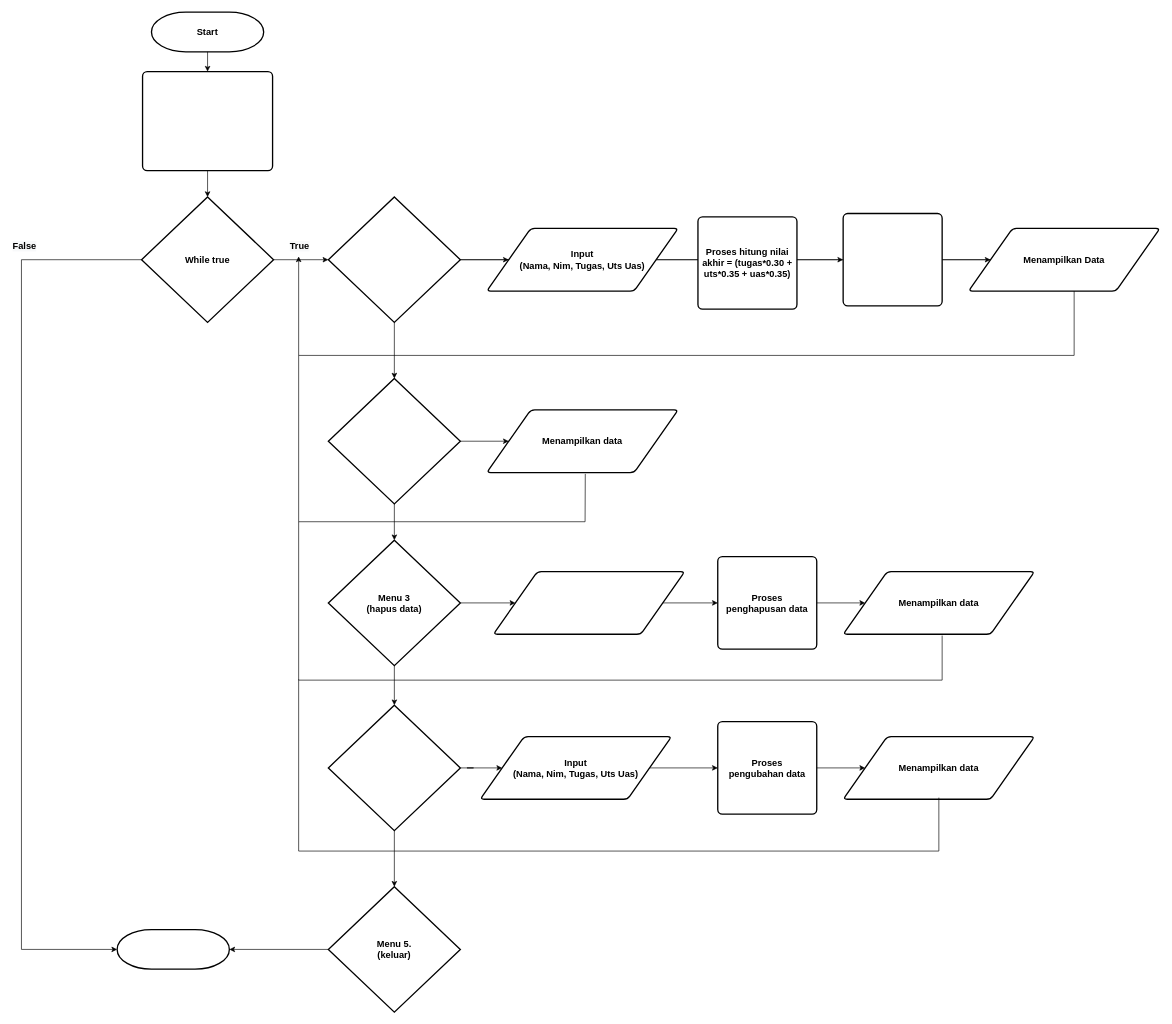
The diagram is 1172 pixels wide and 1024 high, and some of its shapes have lost their labels. Here are the shapes that lost their labels. From the top down, the box of each, then its label:
(142, 71, 273, 171): Deklarasi DataMahasiswa = { Nama, Nim, Tugas, Uts, Uas, Akhir }
(327, 196, 461, 323): Menu 1. (tambah data)
(842, 213, 942, 306): Proses penambahan data
(327, 378, 461, 504): Menu 2. (tampilkan data)
(492, 571, 685, 635): Input Masukan Nama
(327, 704, 461, 831): Menu 4. (ubah data)
(116, 929, 230, 970): End
